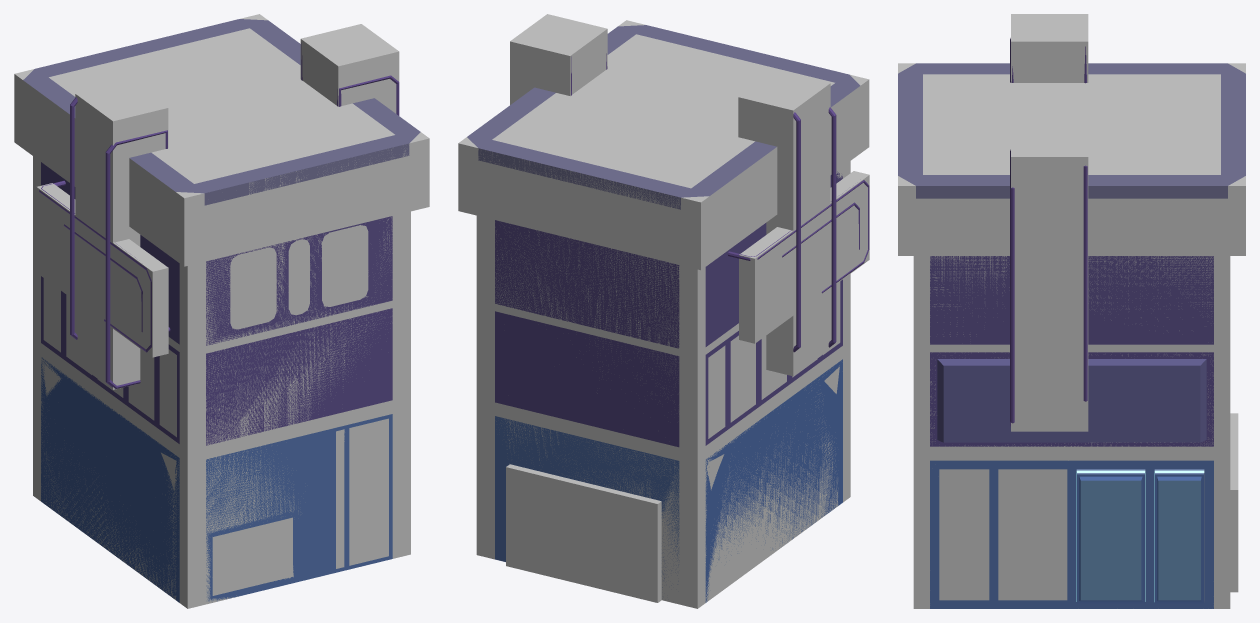
File: SM_Building_06.fbx
3 views of the same model, side by side, from view 1: azimuth 30°, elevation 25°; view 2: azimuth 150°, elevation 25°; view 3: azimuth 270°, elevation 25° (orthographic). The views are drawn at different scales.
Parts seen in each view (by area): view 1: SM_Building_06_ConvexHulls, SM_Building_06; view 2: SM_Building_06_ConvexHulls, SM_Building_06; view 3: SM_Building_06_ConvexHulls, SM_Building_06.
Boxes of the visible parts, box(x1,y1,x2,y2) form: SM_Building_06_ConvexHulls: box(14, 14, 429, 608); SM_Building_06: box(23, 19, 420, 602); SM_Building_06_ConvexHulls: box(458, 14, 869, 608); SM_Building_06: box(467, 25, 869, 602); SM_Building_06_ConvexHulls: box(898, 14, 1245, 608); SM_Building_06: box(898, 38, 1245, 608).
Bounding box in the file's own units: 1313 × 1319 × 1966.
Materials: 2 (1 with a texture image).
